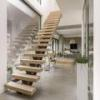stairs: (3, 9, 65, 99)
